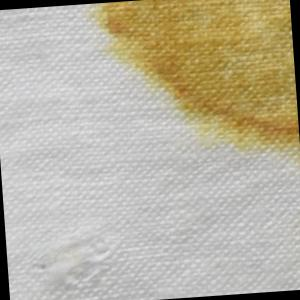Damage: (27, 227, 120, 297)
Oil Stain: (89, 1, 300, 180)
